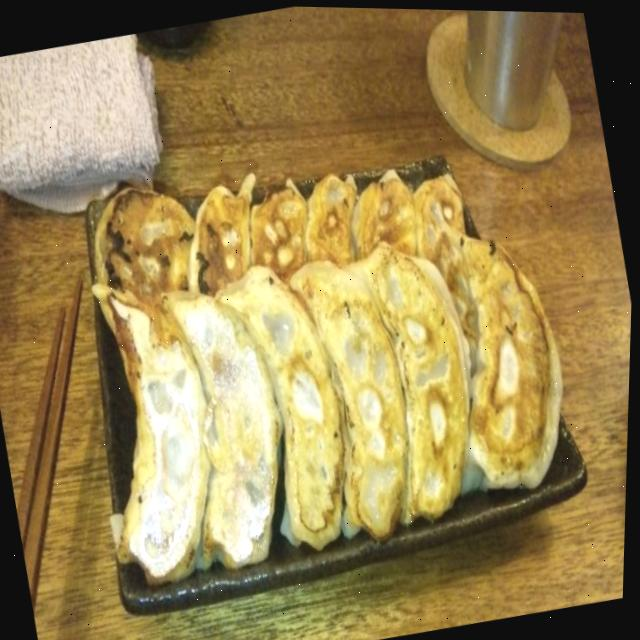带馅早点: (195, 87, 635, 564)
